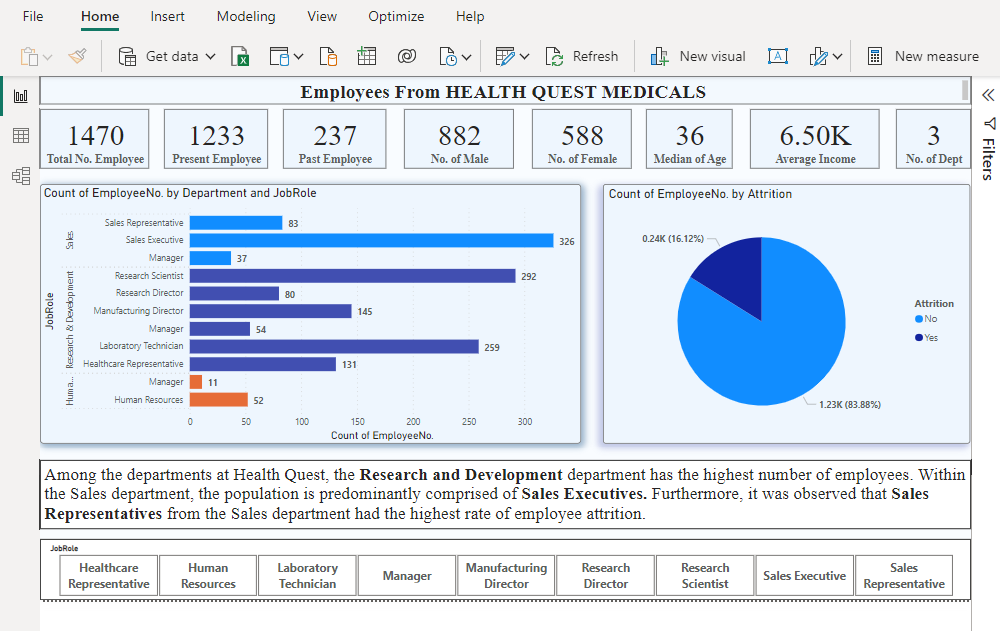

What the dashboard file says about the page in this screenshot:
{"tool":"powerbi","page":{"name":"Introduction","canvas":[1280,720],"ordinal":1},"visuals":[{"type":"card","fields":{"Values":["CountNonNull(Table1.EmployeeNumber)"]},"box":[0,45.6,150,82.2],"z":0},{"type":"card","fields":{"Values":["CountNonNull(Table1.Attrition)"]},"box":[171.1,45.6,143.3,82.2],"z":1000},{"type":"card","fields":{"Values":["CountNonNull(Table1.Attrition)"]},"box":[334.4,45.6,142.2,82.2],"z":2000},{"type":"textbox","box":[0,0,1280,38.9],"z":3000},{"type":"card","fields":{"Values":["Median(Table1.Age)"]},"box":[833.3,45.6,118.9,82.2],"z":4000},{"type":"card","fields":{"Values":["Avg(Table1.MonthlyIncome)"]},"box":[975.6,45.6,177.8,82.2],"z":5000},{"type":"card","fields":{"Values":["Count(Table1.Department)"]},"box":[1176.7,45.6,103.3,82.2],"z":6000},{"type":"card","fields":{"Values":["CountNonNull(Table1.Gender)"]},"box":[676.7,45.6,136.7,82.2],"z":7000},{"type":"card","fields":{"Values":["CountNonNull(Table1.Gender)"]},"box":[500.5,45.4,151.2,82.5],"z":8000},{"type":"clusteredBarChart","fields":{"Category":["Table1.Department","Table1.JobRole"],"Y":["CountNonNull(Table1.EmployeeNo.)"]},"box":[0,148.3,744.5,357.1],"z":9000},{"type":"pieChart","fields":{"Y":["CountNonNull(Table1.EmployeeNo.)"],"Category":["Table1.Attrition"]},"box":[774.7,148.3,505.4,357.1],"z":10000},{"type":"slicer","fields":{"Values":["Table1.JobRole"]},"box":[0,636.5,1280.2,83.5],"z":11000},{"type":"textbox","box":[0,528.5,1280.2,95],"z":12000}]}

Visuals, with their boxes on the page's 1280x720 design canvas (x1, y1, x2, y2). These are canvas units, not pixel positions in the 1000x631 screenshot, which may show the page scaled, cropped or inside an application window:
card - CountNonNull(Table1.EmployeeNumber): [0, 46, 150, 128]
card - CountNonNull(Table1.Attrition): [171, 46, 314, 128]
card - CountNonNull(Table1.Attrition): [334, 46, 477, 128]
textbox: [0, 0, 1280, 39]
card - Median(Table1.Age): [833, 46, 952, 128]
card - Avg(Table1.MonthlyIncome): [976, 46, 1153, 128]
card - Count(Table1.Department): [1177, 46, 1280, 128]
card - CountNonNull(Table1.Gender): [677, 46, 813, 128]
card - CountNonNull(Table1.Gender): [500, 45, 652, 128]
clusteredBarChart - Table1.Department x Table1.JobRole: [0, 148, 744, 505]
pieChart - CountNonNull(Table1.EmployeeNo.) x Table1.Attrition: [775, 148, 1280, 505]
slicer - Table1.JobRole: [0, 636, 1280, 720]
textbox: [0, 528, 1280, 624]
